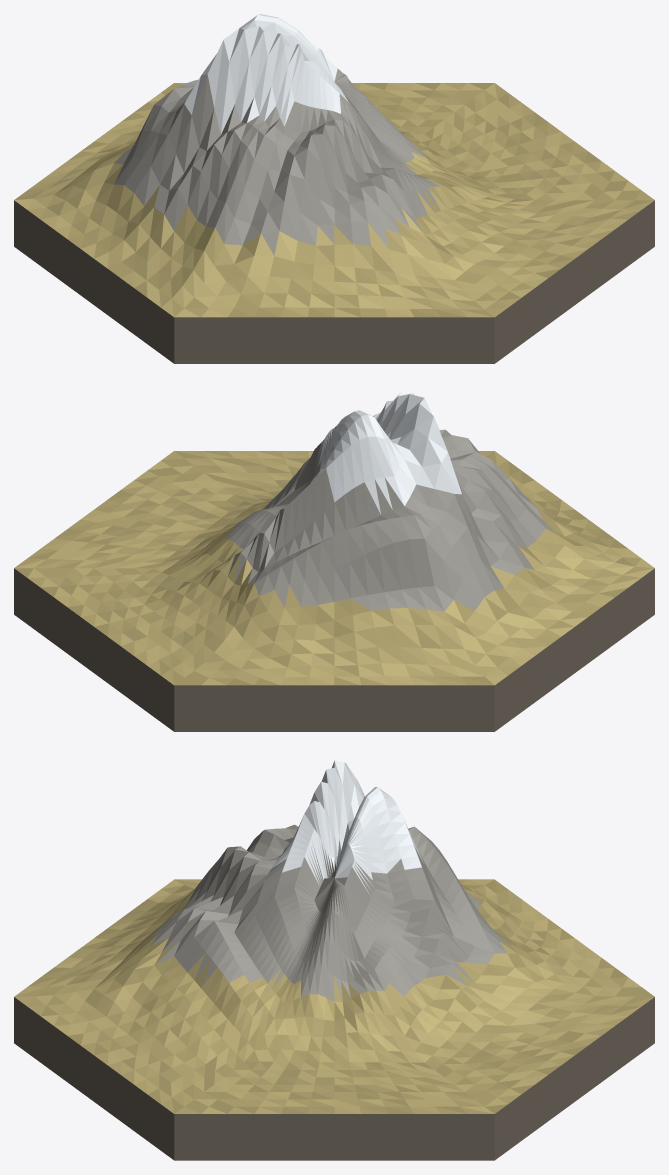
Rendered from TERRAIN_PLAINS_MOUNTAIN_v01.fbx.
3 views of the same model, one above another, from view 1: azimuth 30°, elevation 25°; view 2: azimuth 150°, elevation 25°; view 3: azimuth 270°, elevation 25° (orthographic).
Visible parts, largest first — view 1: TERRAIN_PLAINS_MOUNTAIN_v01; view 2: TERRAIN_PLAINS_MOUNTAIN_v01; view 3: TERRAIN_PLAINS_MOUNTAIN_v01.
Part boxes in pixels (box(x1,y1,x2,y2)): TERRAIN_PLAINS_MOUNTAIN_v01: box(14, 14, 654, 363); TERRAIN_PLAINS_MOUNTAIN_v01: box(14, 392, 654, 731); TERRAIN_PLAINS_MOUNTAIN_v01: box(14, 760, 654, 1160).
Bounding box in the file's own units: 173 × 82.25 × 200.
